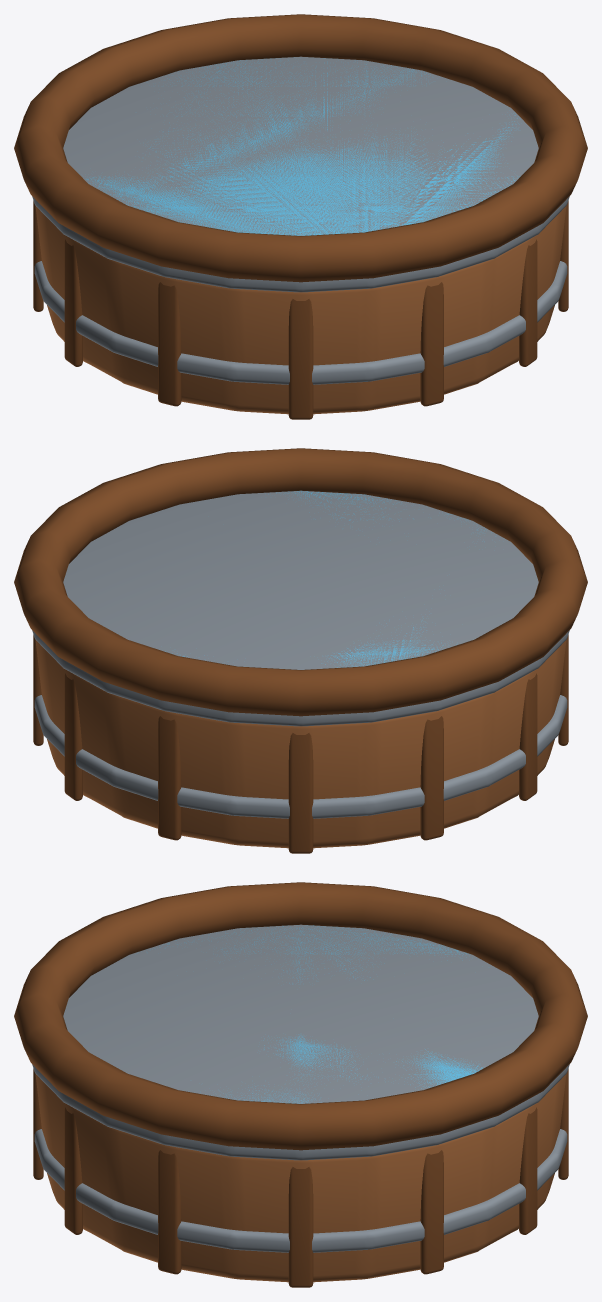
Rendered from Tub.fbx.
3 views of the same model, one above another, from view 1: azimuth 30°, elevation 25°; view 2: azimuth 150°, elevation 25°; view 3: azimuth 270°, elevation 25° (orthographic).
Parts seen in each view (by area): view 1: Tub; view 2: Tub; view 3: Tub.
Part boxes in pixels (<box>): Tub: <box>14,14,587,419</box>; Tub: <box>14,448,587,853</box>; Tub: <box>14,882,587,1287</box>.
Size of the model in its own units: 1.4 by 0.5 by 1.4.
1 material, 1 textured.
